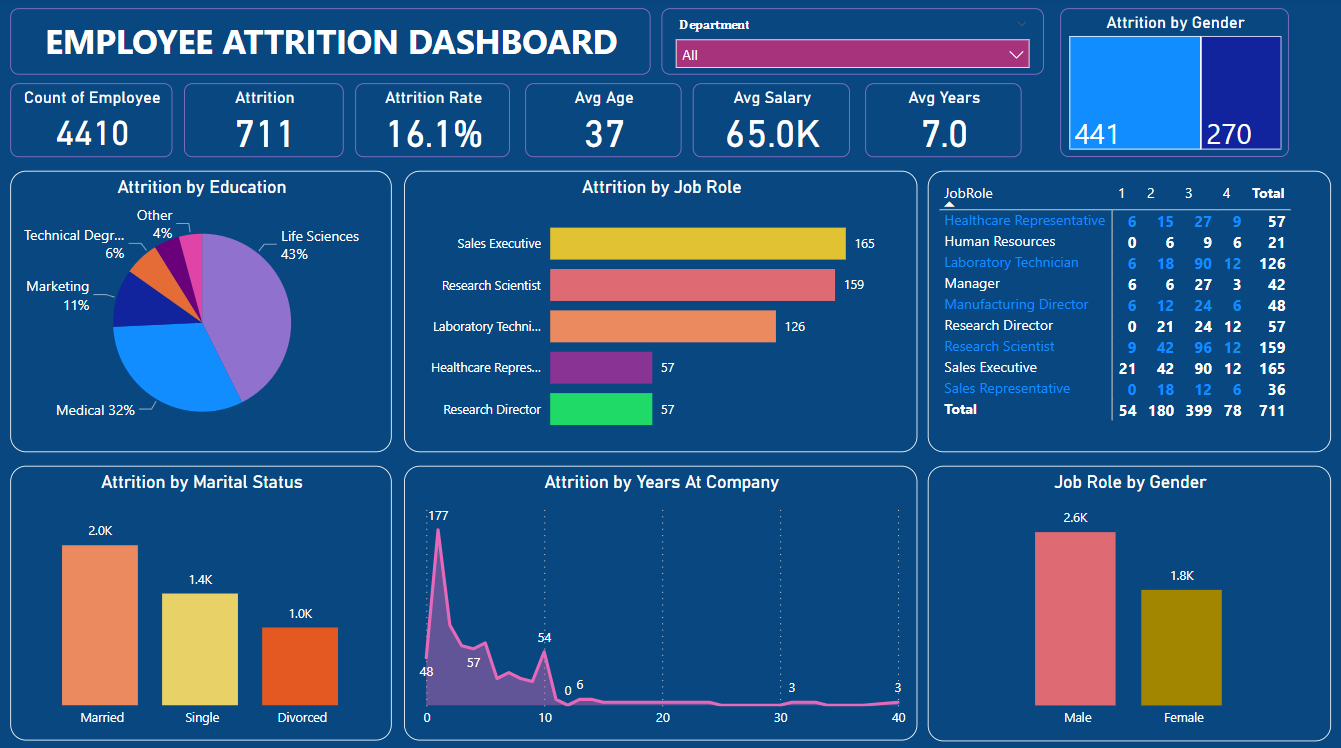

What the dashboard file says about the page in this screenshot:
{"tool":"powerbi","page":{"name":"Employee Attrition","canvas":[1280,720],"ordinal":0},"visuals":[{"type":"card","title":"Count of Employee","fields":{"Values":["CountNonNull(Attrition data.EmployeeID)"]},"box":[10.7,82.1,154.7,70.2],"z":0},{"type":"textbox","box":[10.7,10.7,609.3,63.1],"z":1000},{"type":"card","title":"Attrition","fields":{"Values":["Sum(Attrition data.Attrition Count)"]},"box":[176.1,82.1,152.3,70.2],"z":2000},{"type":"card","title":"Attrition Rate","fields":{"Values":["Attrition data.AttritionRate"]},"box":[339.2,82.1,147.6,70.2],"z":3000},{"type":"card","title":"Avg Age","fields":{"Values":["Avg(Attrition data.Age)"]},"box":[501,82.1,148.8,70.2],"z":4000},{"type":"card","title":"Avg Salary","fields":{"Values":["Avg(Attrition data.MonthlyIncome)"]},"box":[660.5,82.1,150,70.2],"z":5000},{"type":"card","title":"Avg Years","fields":{"Values":["Avg(Attrition data.YearsAtCompany)"]},"box":[824.7,82.1,148.8,70.2],"z":6000},{"type":"slicer","fields":{"Values":["Attrition data.Department"]},"box":[630.7,10.7,364.2,63.1],"z":7000},{"type":"treemap","title":"Attrition by Gender","fields":{"Group":["Attrition data.Gender"],"Values":["Sum(Attrition data.Attrition Count)"]},"box":[1010.4,10.7,217.8,141.6],"z":8000},{"type":"pieChart","title":"Attrition by Education","fields":{"Category":["Attrition data.EducationField"],"Y":["Sum(Attrition data.Attrition Count)"]},"box":[10.7,165.4,363,267.8],"z":9000},{"type":"barChart","title":"Attrition by Job Role","fields":{"Category":["Attrition data.JobRole"],"Y":["Sum(Attrition data.Attrition Count)"]},"box":[385.6,165.4,489.1,267.8],"z":10000},{"type":"areaChart","title":"Attrition by Years At Company","fields":{"Y":["Sum(Attrition data.Attrition Count)"],"Category":["Attrition data.YearsAtCompany"]},"box":[385.6,446.3,489.1,261.8],"z":11000},{"type":"pivotTable","fields":{"Values":["Sum(Attrition data.Attrition Count)"],"Rows":["Attrition data.JobRole"],"Columns":["Attrition data.JobInvolvement"]},"box":[884.2,165.4,384.4,267.8],"z":12000},{"type":"columnChart","title":"Attrition by Marital Status","fields":{"Category":["Attrition data.MaritalStatus"],"Y":["CountNonNull(Attrition data.EnvironmentSatisfaction)"]},"box":[10.7,446.3,363,261.8],"z":13000},{"type":"clusteredColumnChart","title":"Job Role by Gender","fields":{"Y":["CountNonNull(Attrition data.JobRole)"],"Category":["Attrition data.Gender"]},"box":[884,446,384,262],"z":14000}]}

Visuals, with their boxes in screenshot pixels (x1, y1, x2, y2), scaled from the page's 1280x720 canvas onto the 1341x748 screenshot:
"Count of Employee" card: (11, 85, 173, 158)
textbox: (11, 11, 650, 77)
"Attrition" card: (184, 85, 344, 158)
"Attrition Rate" card: (355, 85, 510, 158)
"Avg Age" card: (525, 85, 681, 158)
"Avg Salary" card: (692, 85, 849, 158)
"Avg Years" card: (864, 85, 1020, 158)
slicer - Attrition data.Department: (661, 11, 1042, 77)
"Attrition by Gender" treemap: (1059, 11, 1287, 158)
"Attrition by Education" pieChart: (11, 172, 392, 450)
"Attrition by Job Role" barChart: (404, 172, 916, 450)
"Attrition by Years At Company" areaChart: (404, 464, 916, 736)
pivotTable - Sum(Attrition data.Attrition Count) x Attrition data.JobRole: (926, 172, 1329, 450)
"Attrition by Marital Status" columnChart: (11, 464, 392, 736)
"Job Role by Gender" clusteredColumnChart: (926, 463, 1328, 736)
